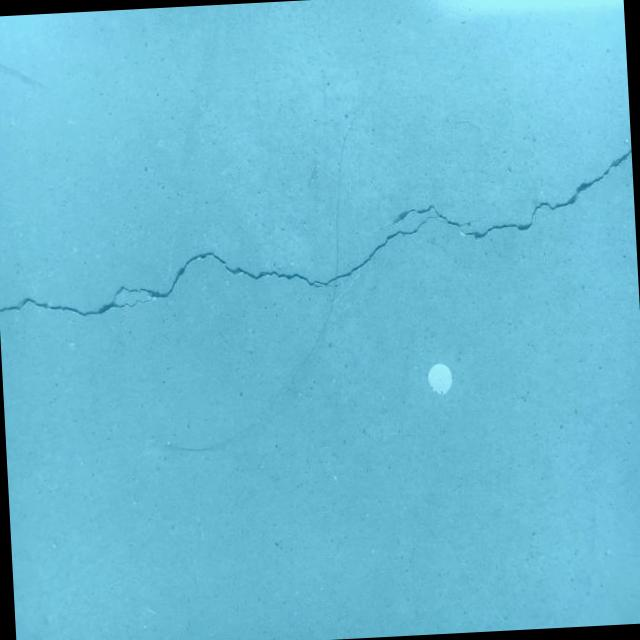crack: (0, 147, 639, 322)
